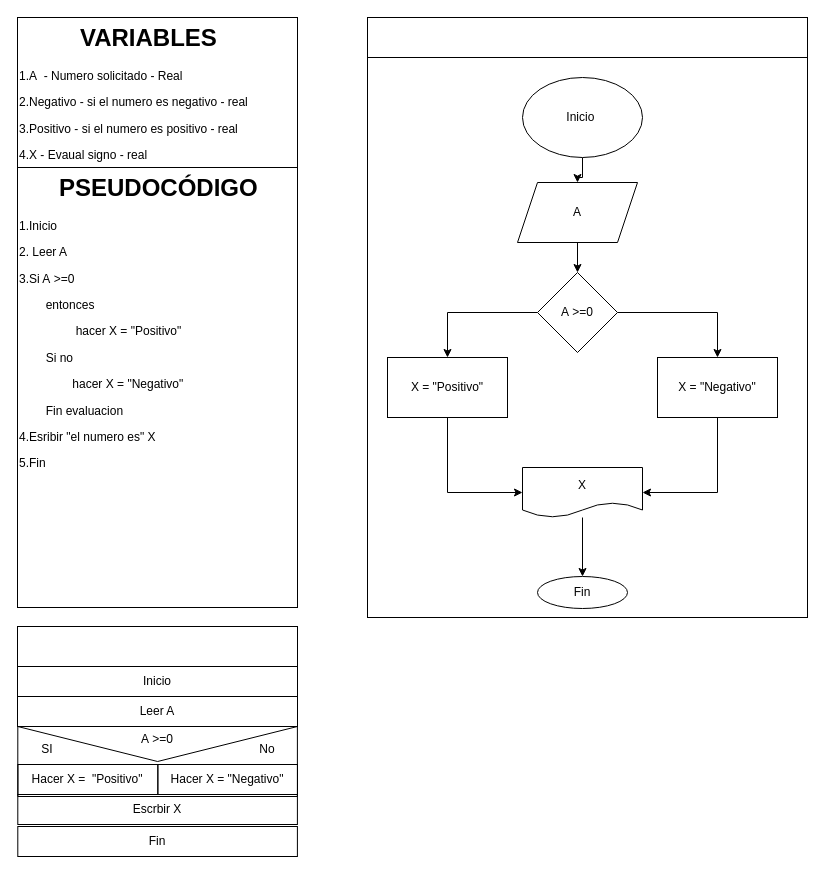
Image size: 825x874. Some labels were removed from this diagram. The shapes that lost their labels are listed below. From the top down, each one's centre as x and y in pixels, then its label:
At (587,37): "DIAGRAMA DE FLUJO".
At (157,646): "DIAGRAMA N/S .".
